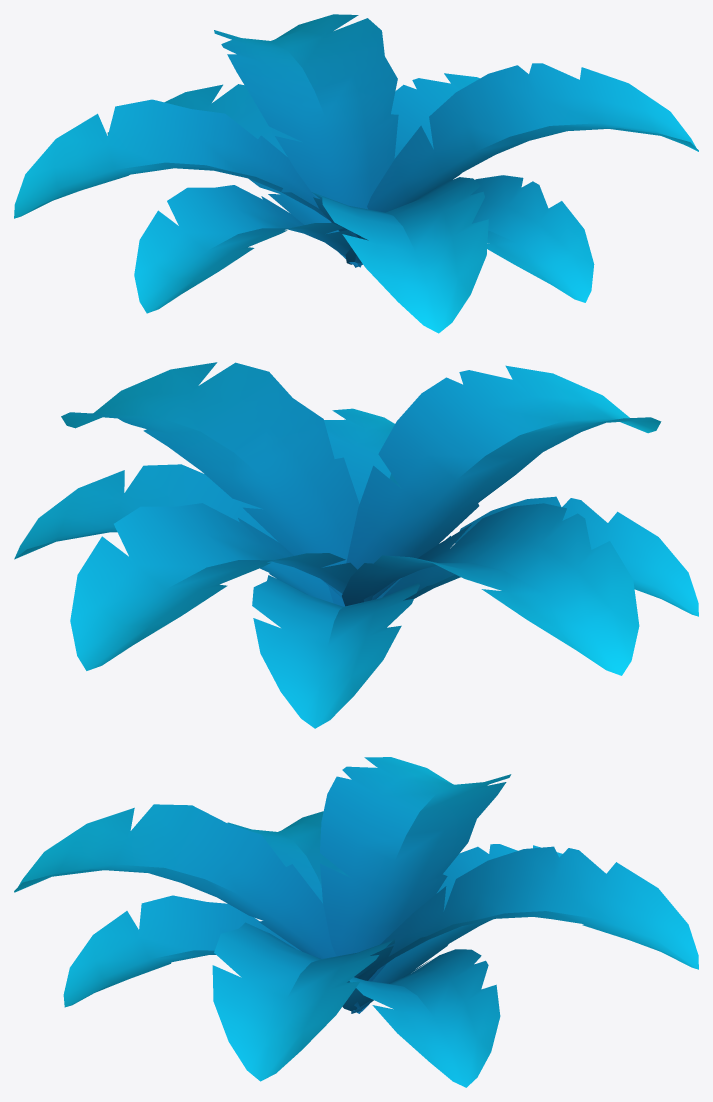
Rendered from Plant_Foliage_01.fbx.
3 views of the same model, one above another, from view 1: azimuth 30°, elevation 25°; view 2: azimuth 150°, elevation 25°; view 3: azimuth 270°, elevation 25° (orthographic). The views are drawn at different scales.
Visible parts, largest first — view 1: Plant_Foliage_01; view 2: Plant_Foliage_01; view 3: Plant_Foliage_01.
Boxes of the visible parts, x1=… form: Plant_Foliage_01: x1=14, y1=14, x2=698, y2=333; Plant_Foliage_01: x1=14, y1=362, x2=698, y2=728; Plant_Foliage_01: x1=14, y1=757, x2=698, y2=1087.
Size of the model in its own units: 176 by 43.04 by 177.
